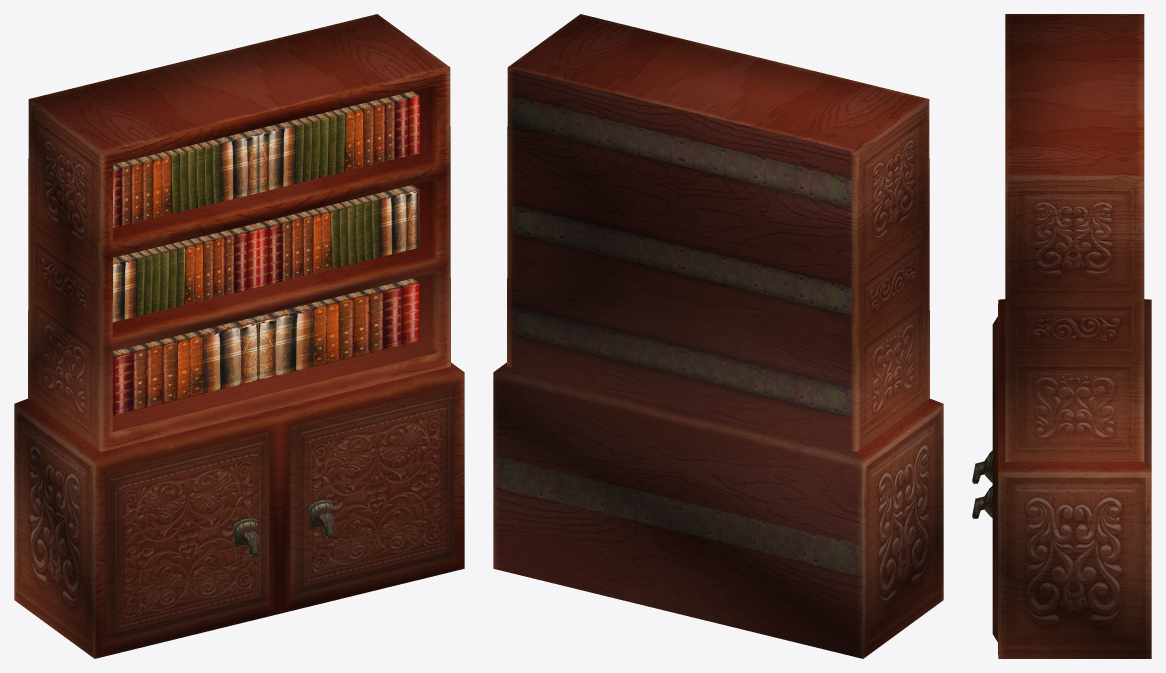
The model's file is bookcase.FBX.
3 renders of one model, left to right at view 1: azimuth 30°, elevation 25°; view 2: azimuth 150°, elevation 25°; view 3: azimuth 270°, elevation 25°, orthographic. The views are drawn at different scales.
Parts seen in each view (by area): view 1: Box01; view 2: Box01; view 3: Box01.
Boxes of the visible parts, x1,y1,x2,y2 form: Box01: (14, 14, 464, 658); Box01: (493, 14, 943, 658); Box01: (972, 14, 1151, 658).
Size of the model in its own units: 85.61 by 111 by 37.67.
1 material, 1 textured.
